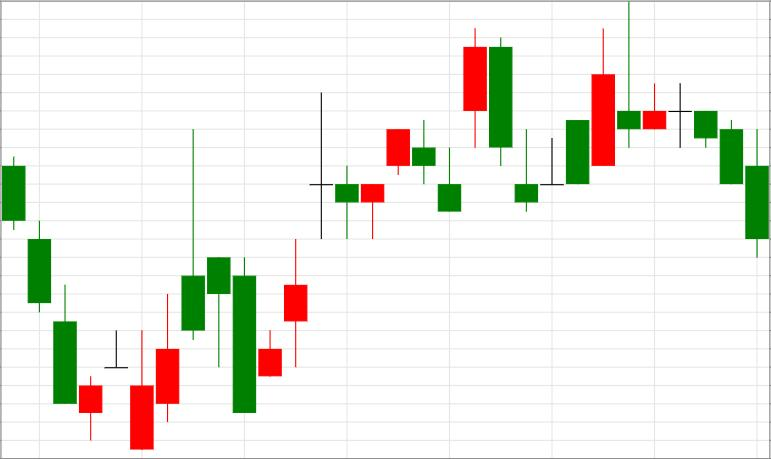hanging_man_fall: (80, 129, 230, 451)
shooting_star_fall: (79, 130, 205, 450)
